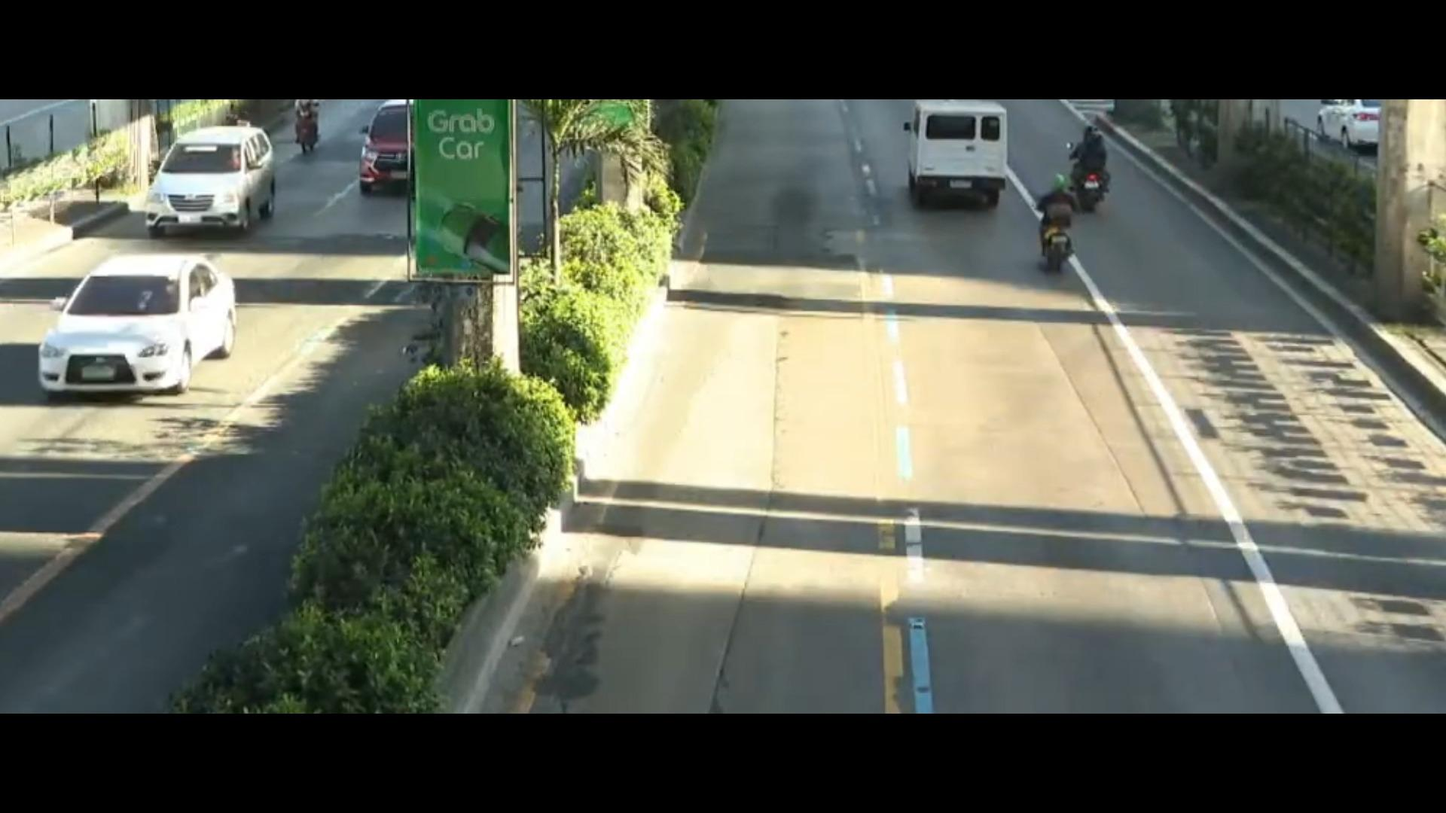Motorcycle: (1027, 177, 1093, 273), (1064, 115, 1123, 214), (283, 104, 328, 163)
Multicab: (889, 101, 1019, 209)
SUV: (141, 111, 283, 238), (347, 99, 420, 191)
Sedan: (27, 249, 258, 429)
